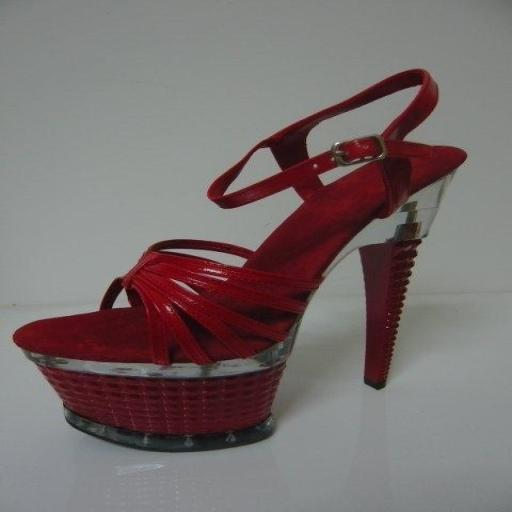heels: (14, 70, 466, 451)
